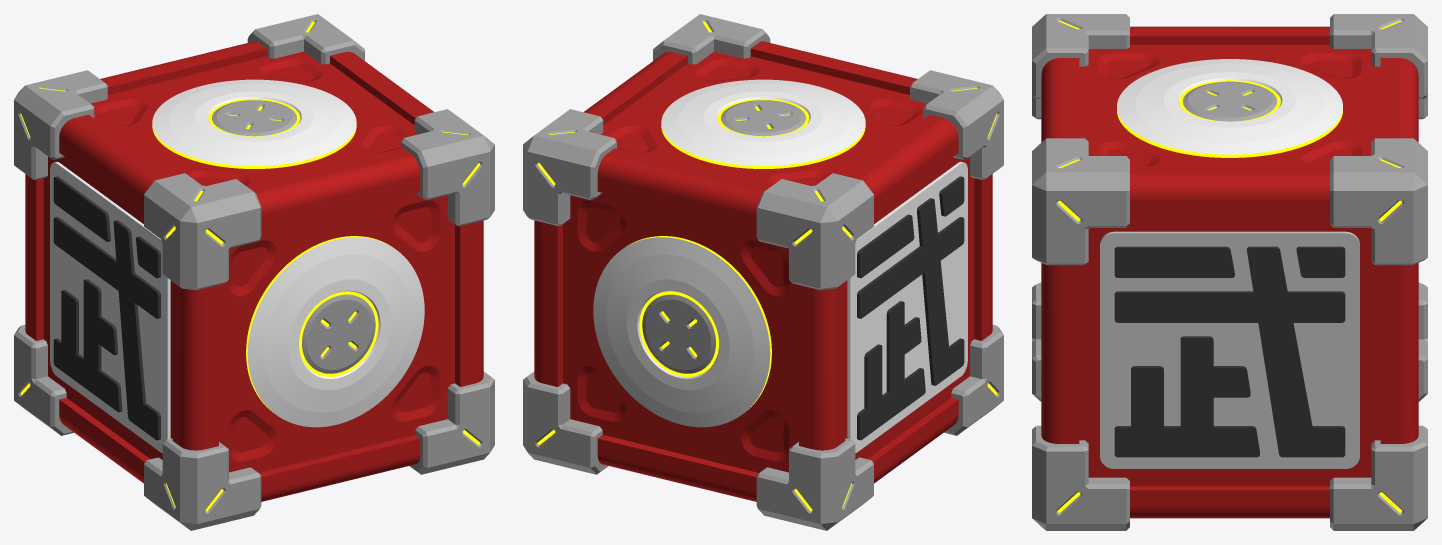
3 views of the same model, side by side, from view 1: azimuth 30°, elevation 25°; view 2: azimuth 150°, elevation 25°; view 3: azimuth 270°, elevation 25° (orthographic). The views are drawn at different scales.
Visible parts, largest first — view 1: root; view 2: root; view 3: root.
Boxes of the visible parts, <box> form: root: <box>14,14,494,530</box>; root: <box>523,14,1003,530</box>; root: <box>1032,14,1427,530</box>.
Size of the model in its own units: 10.68 by 10.5 by 10.5.
